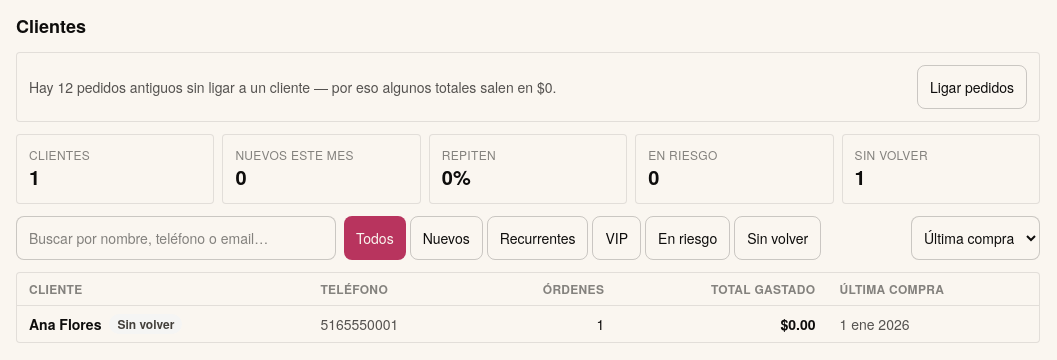
it: CustomersList backfill banner › confirms, links the orders, shows the result and reloads the list
This screenshot has width=1057, height=360.
Expected: the text "Hay 12 pedidos antiguos sin ligar a un cliente" is shown, [29,77,556,97]
Expected: the text "$0.00" is shown, [616,306,828,342]
Step 1. Click the button "Ligar pedidos" → x=972, y=87, box [917,65,1027,109]
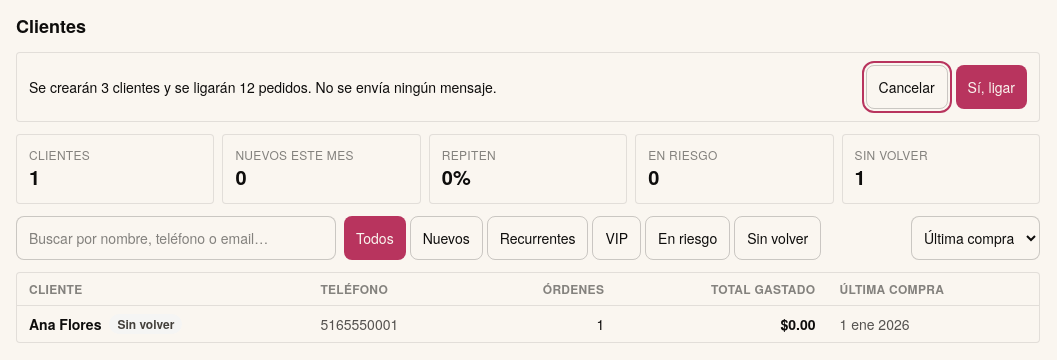
Expected: the text "Se crearán 3 clientes y se ligarán 12 pedidos. No se envía ningún mensaje." is shown, [29,77,497,97]
Step 2. Click the button "Sí, ligar" → x=991, y=87, box [956,65,1027,109]
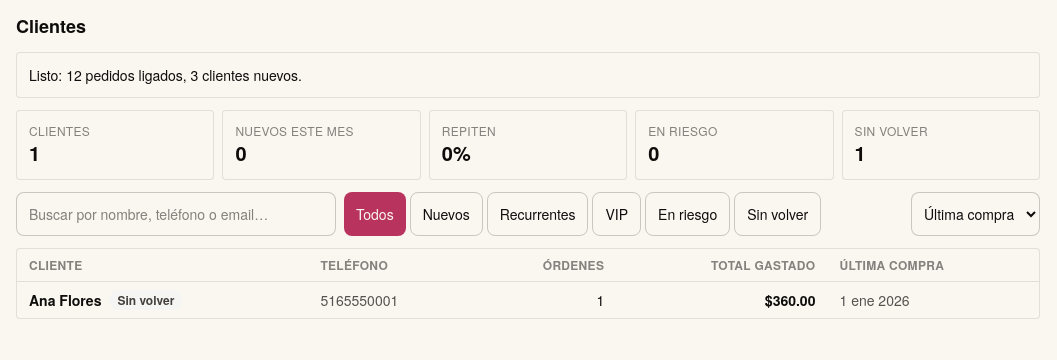
Expected: the button "Ligar pedidos" is not shown
Expected: the message reads "Listo: 12 pedidos ligados, 3 clientes nuevos.", [29,65,302,85]
Expected: the text "$360.00" is shown, [616,282,828,318]
